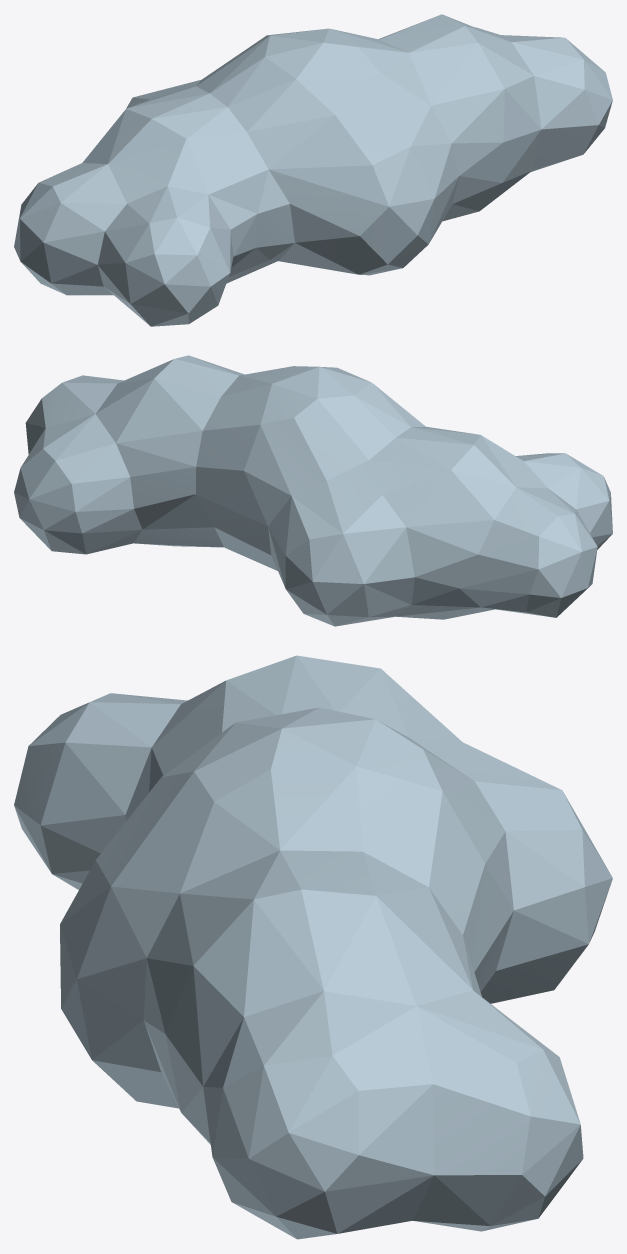
File: medium_cloud_9.fbx
3 views of the same model, one above another, from view 1: azimuth 30°, elevation 25°; view 2: azimuth 150°, elevation 25°; view 3: azimuth 270°, elevation 25° (orthographic). The views are drawn at different scales.
Visible parts, largest first — view 1: cloud_59; view 2: cloud_59; view 3: cloud_59.
Part boxes in pixels (x1,y1,x2,y2): cloud_59: (14,14,612,326); cloud_59: (14,355,612,626); cloud_59: (14,655,612,1239).
Size of the model in its own units: 521 by 186 by 274.
